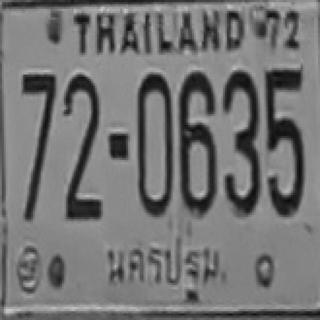N00: (266, 116, 302, 215)
N03: (222, 82, 259, 214)
N05: (264, 67, 303, 150)
N07: (21, 72, 56, 156)
P28: (101, 231, 226, 303)
